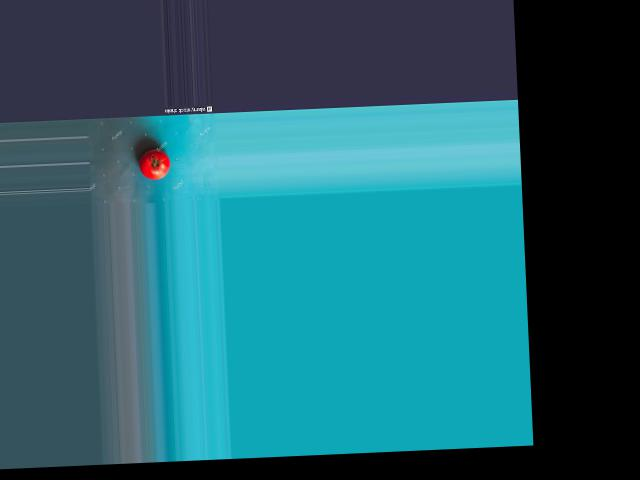tomato: (138, 147, 170, 180)
